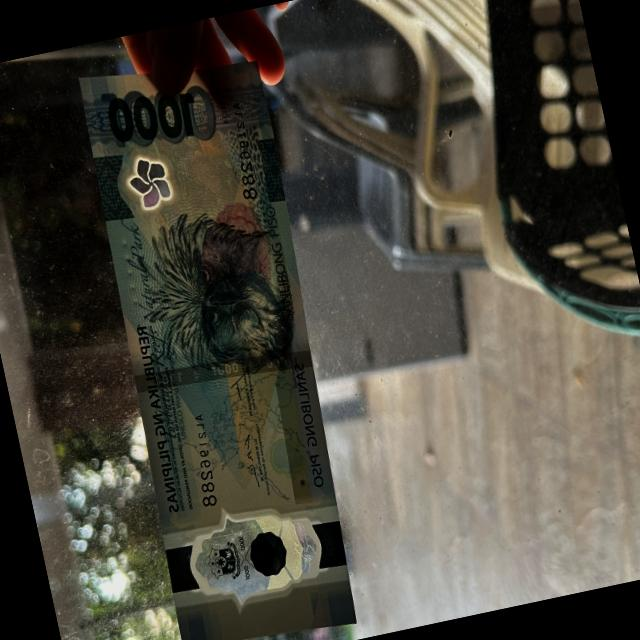clear_window: (175, 490, 332, 618)
eagle: (118, 187, 306, 390)
sampaguita: (120, 146, 175, 216)
